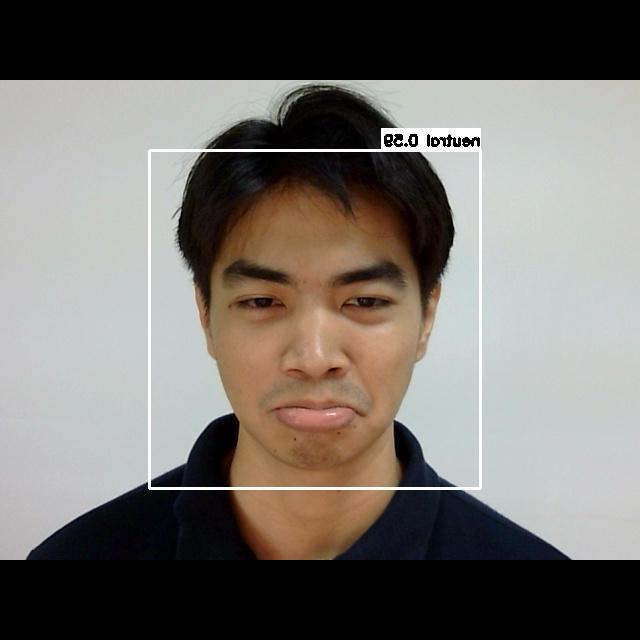Sad: (204, 223, 437, 451)
